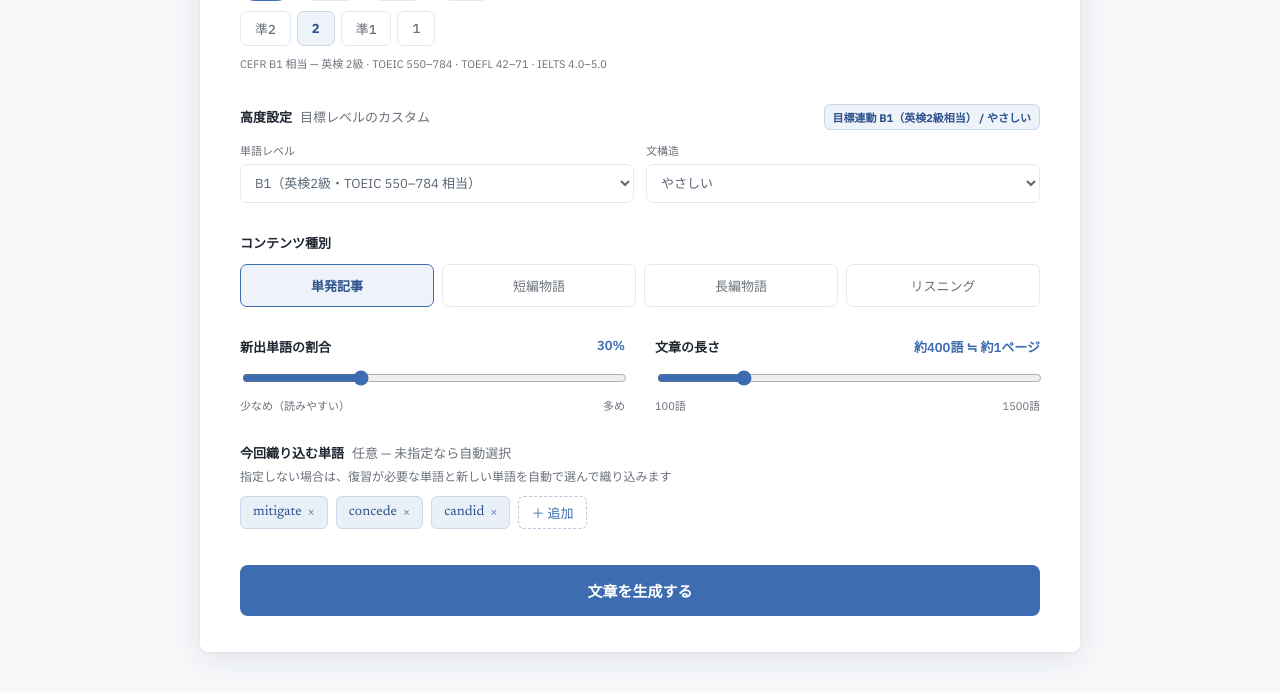
Test: <SetupScreen/> (overhauled: intent / exam / word target / content type) › shows the exclude/restore affordance and reflects state via aria on candidate chips (A-2-4)
(page scrolled)
Click the button with test id "target-mitigate".
click(284, 512)  # box [240,496,328,529]
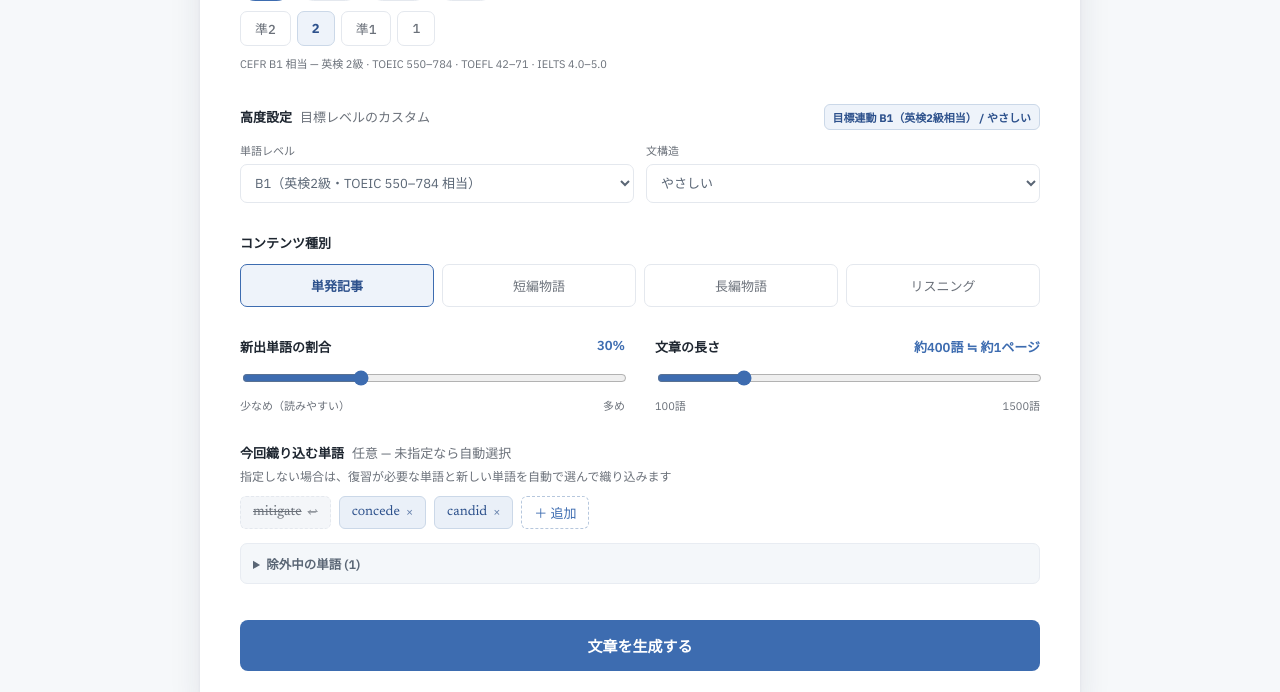
Now the button with test id "target-mitigate" shows "↩", box [240,496,331,529]
